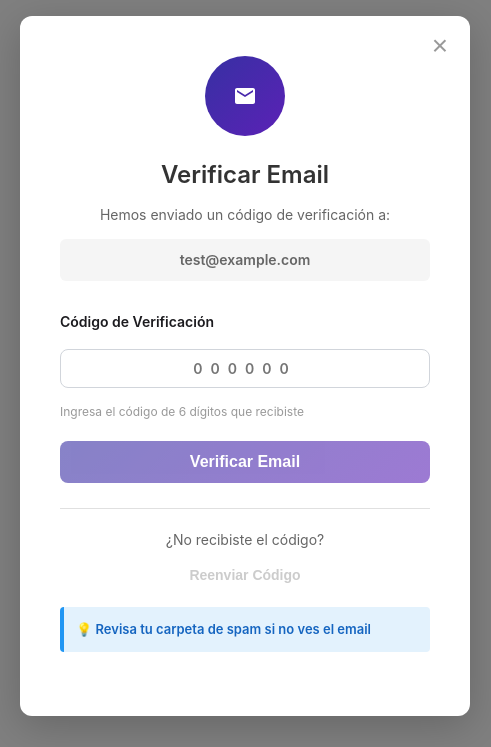
EmailVerificationModal Component › accepts only numeric input
This screenshot has width=491, height=747.
Step 1. Type "abc123" into the field with placeholder "000000" → (245, 369), box left=60, top=349, right=430, bottom=388
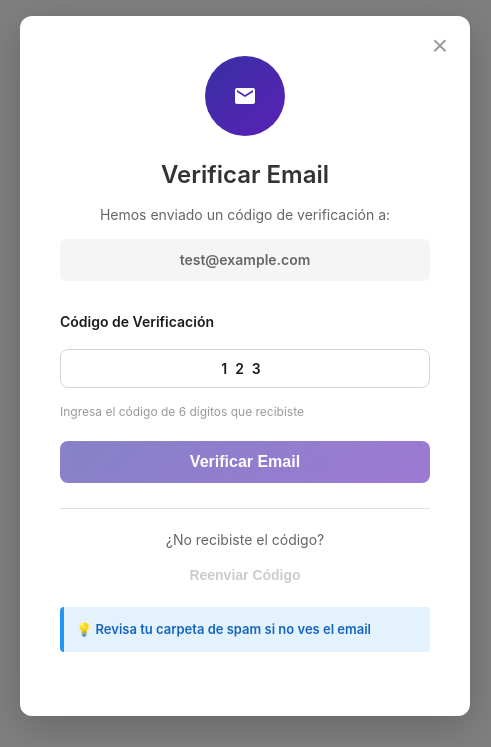
Expected: the field with placeholder "000000" holds "123", left=60, top=349, right=430, bottom=388
